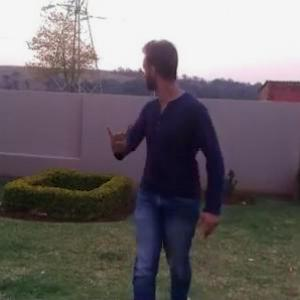takeoff-hand: (100, 117, 135, 158)
